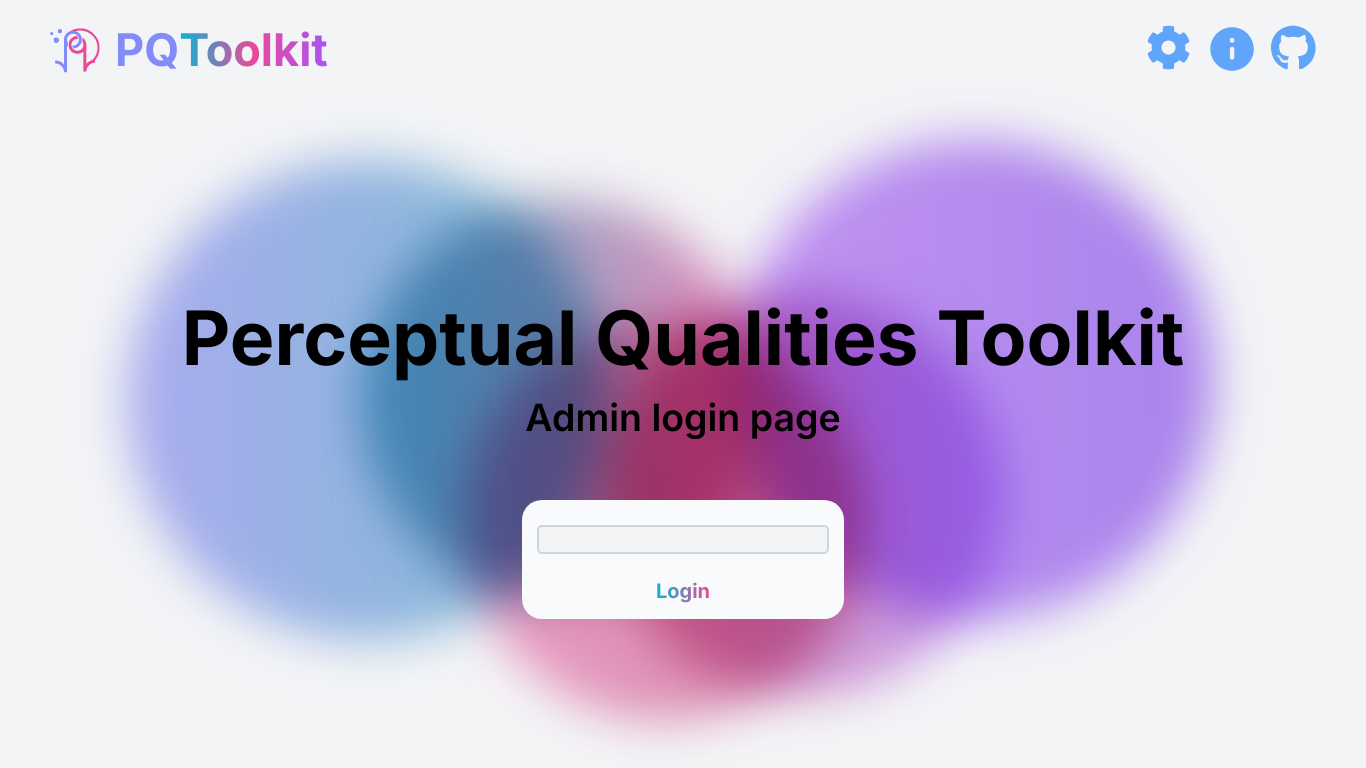
Test: LoginPage › shows error message on failed login attempt
Type "wrongpassword" into the password field named "Password" at point(683, 540), box [537,525,829,554]
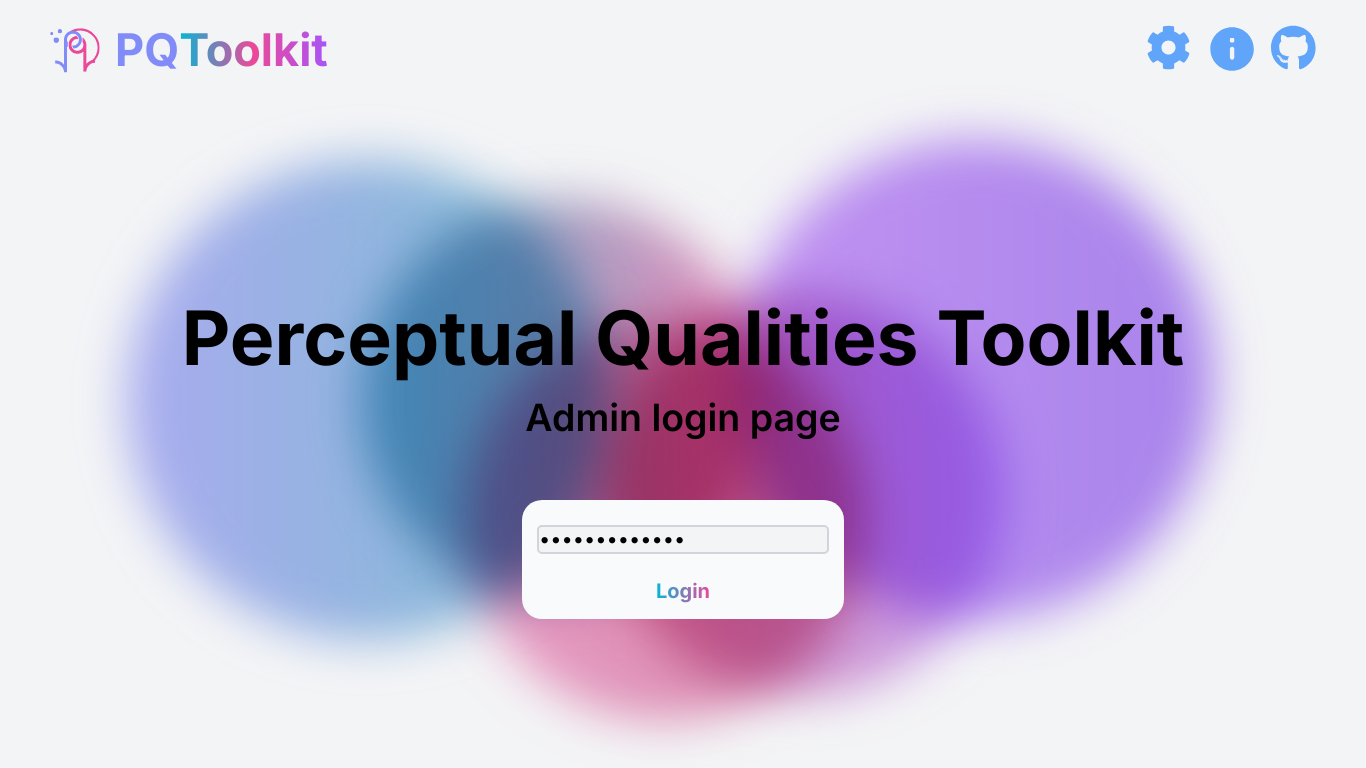
Click the text "Login" at point(683, 592), box [656,579,710,604]
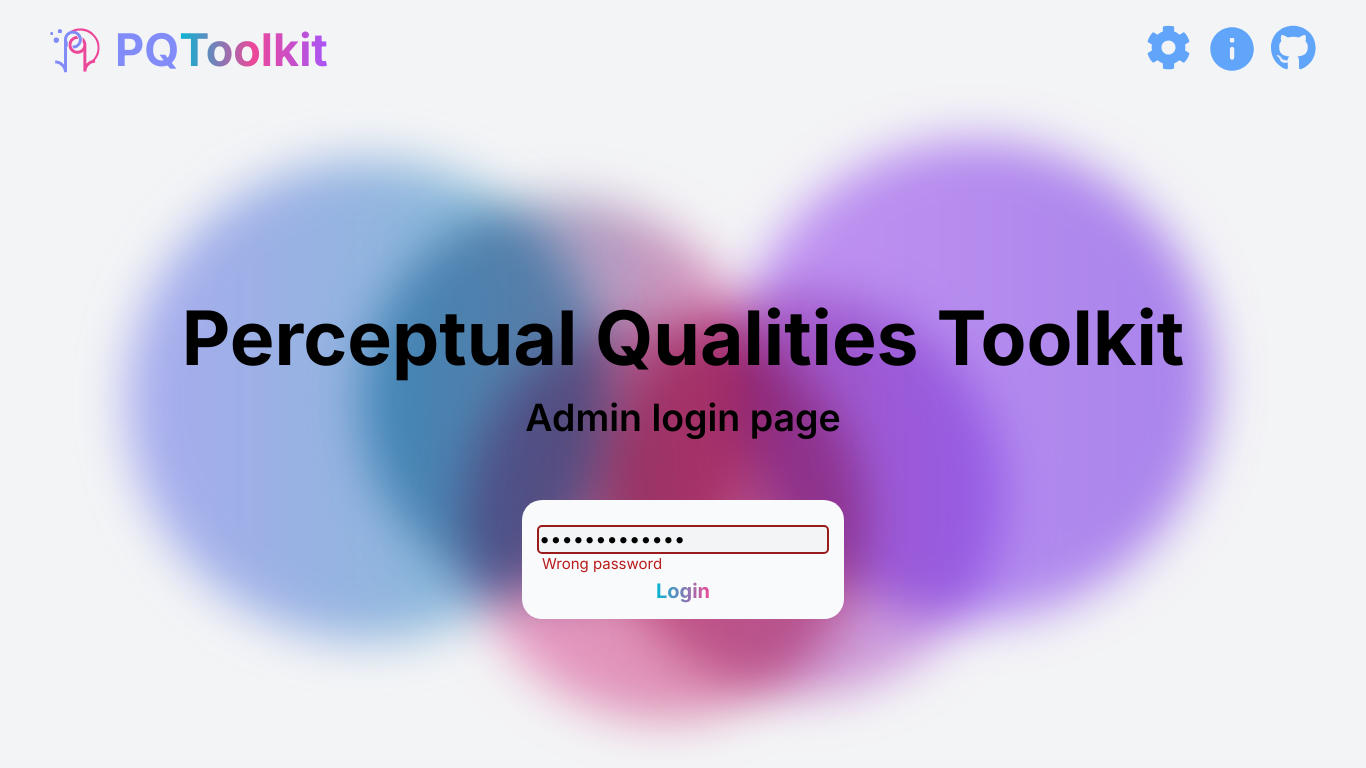
expect the text "Wrong password" is shown: met, box [542,554,662,573]
